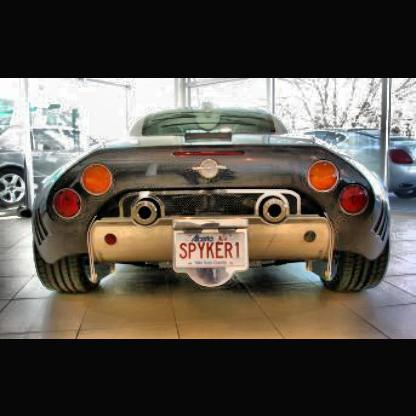Spyker C8 Coupe 2009: (31, 101, 393, 299)
